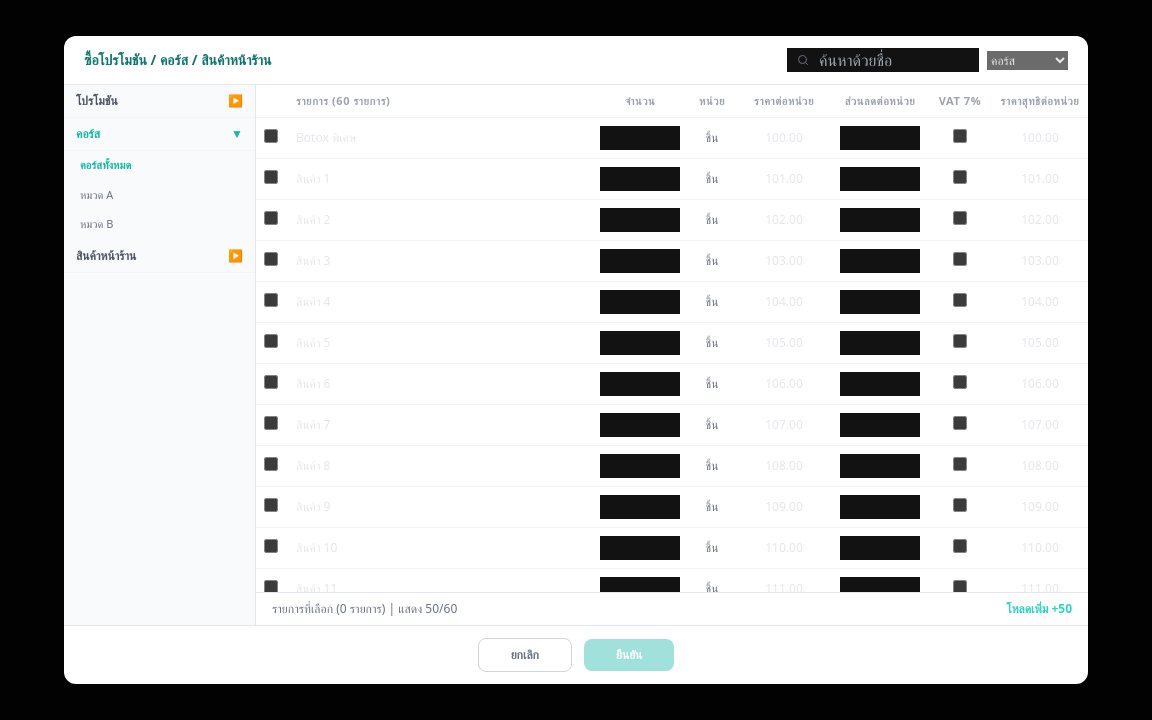
it: K2 — standalone modal behavior (RTL) › K2.1 typing in the search box filters the list (modal-internal state)
Expected: the column heading "รายการ (60 รายการ)" is shown, [288,85,592,118]
In the field with placeholder "ค้นหาด้วยชื่อ": {"x": 883, "y": 60} [787,48,979,72], type "Botox"
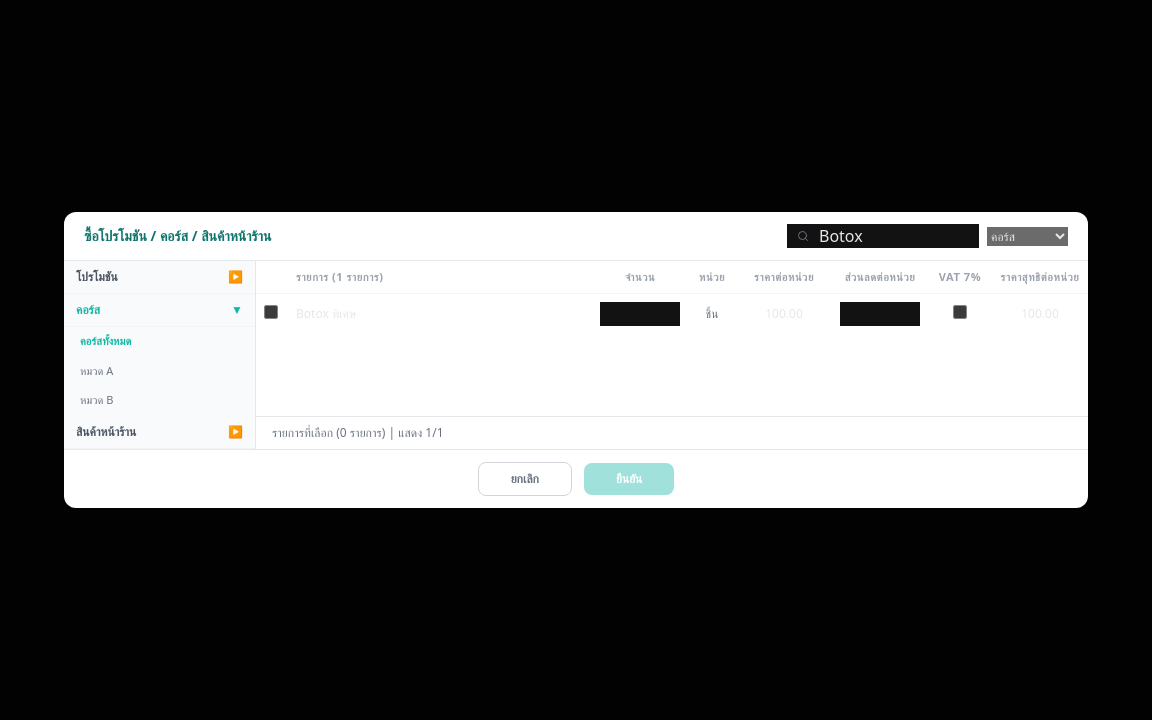
Expected: the text "Botox พิเศษ" is shown, [296,306,356,322]
Now the column heading "รายการ (1 รายการ)" is shown, box [288,261,592,294]
